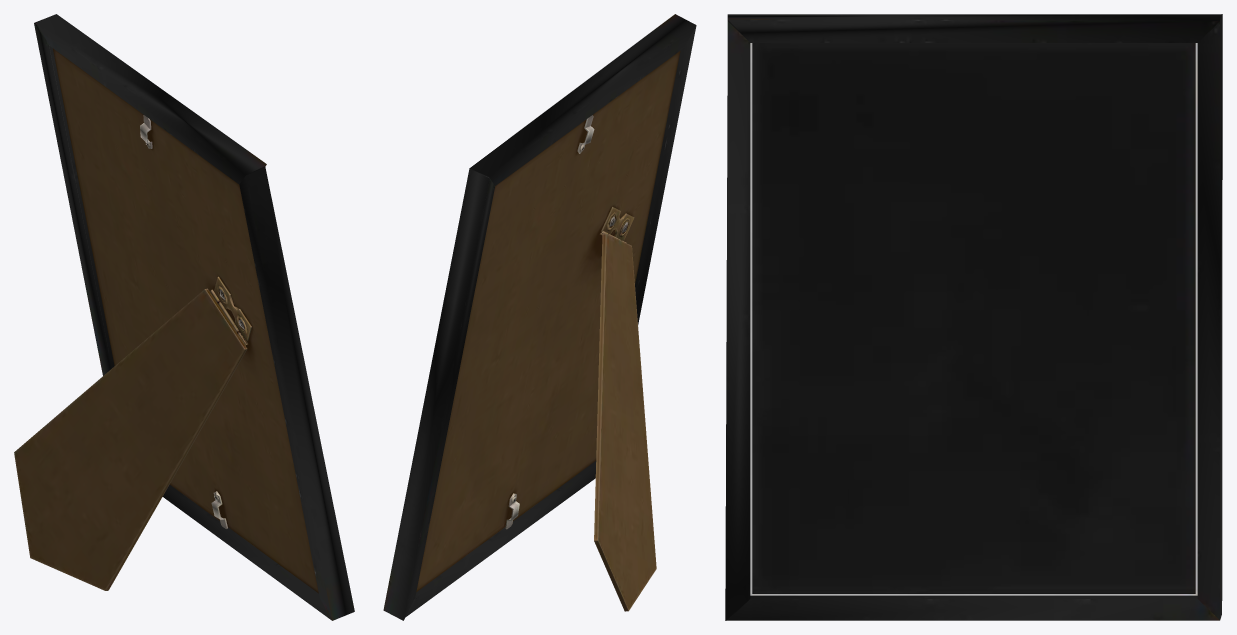
The model's file is standing_picture_frame_01.glb.
3 renders of one model, left to right at view 1: azimuth 30°, elevation 25°; view 2: azimuth 150°, elevation 25°; view 3: azimuth 270°, elevation 25°, orthographic. The views are drawn at different scales.
Parts seen in each view (by area): view 1: standing_picture_frame_01; view 2: standing_picture_frame_01; view 3: standing_picture_frame_01.
Part boxes in pixels (<box>): standing_picture_frame_01: <box>14,14,354,620</box>; standing_picture_frame_01: <box>383,14,696,620</box>; standing_picture_frame_01: <box>725,14,1222,620</box>.
Bounding box in the file's own units: 0.0998 × 0.2496 × 0.2004.
Materials: 3 (3 with a texture image).
